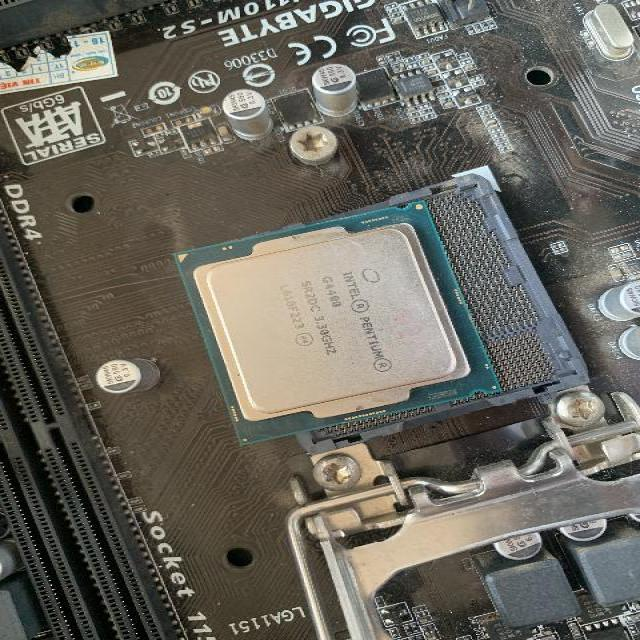CPU: (172, 200, 503, 444)
Mainboard: (0, 1, 640, 640)
